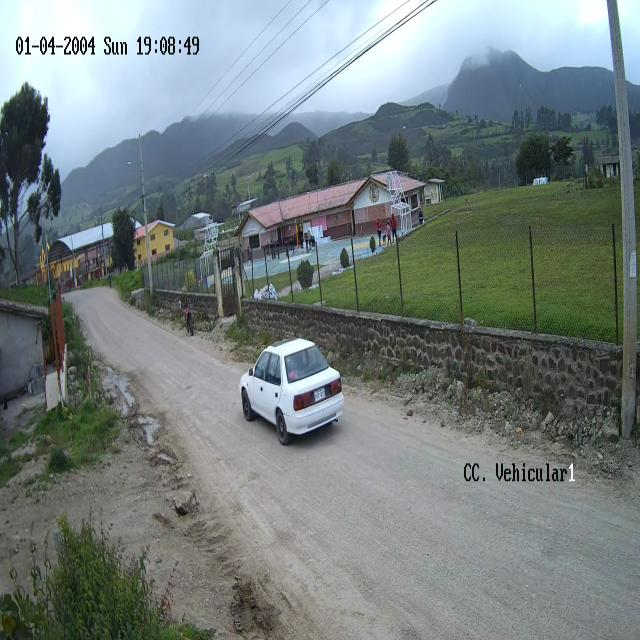SED: (241, 339, 345, 442)
